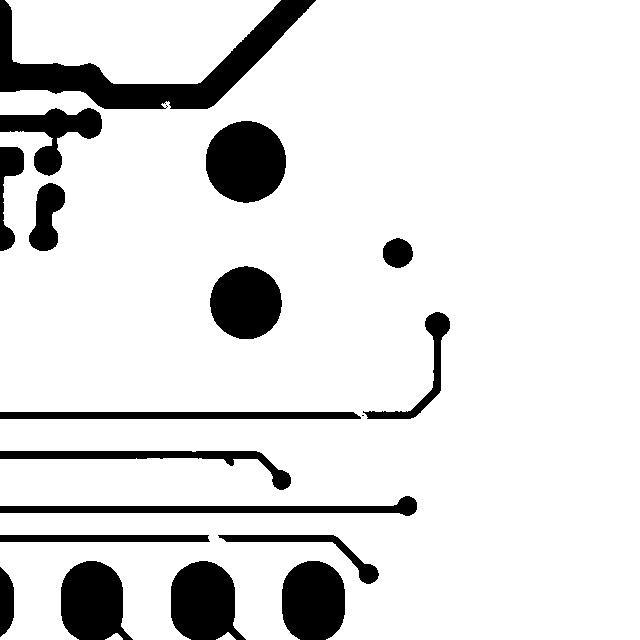mousebite: (151, 91, 180, 121)
open: (198, 524, 235, 556), (344, 400, 377, 430)
short: (41, 128, 67, 159)
spur: (208, 444, 243, 475)
